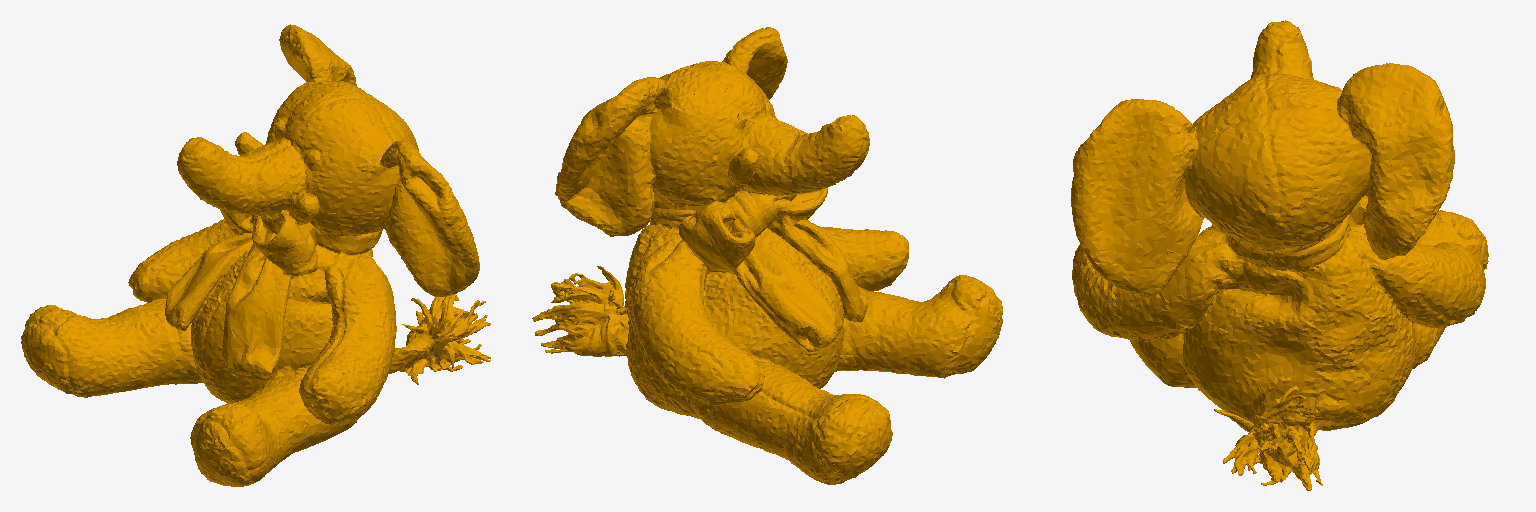
URDF robot description (dsbyipk4):
<?xml version='1.0'?>

<robot name="dsbyipk4">
    <static>false</static>
    <link name="link">
        <inertial>
            <mass value="0.13560096340753358"/>
            <inertia ixx="0.00012009482729316273" ixy="2.633854528063238e-06" ixz="-2.5859357347645267e-05"
                     iyy="0.00011542486261248815" iyz="2.3887781031725904e-06" izz="0.00010015295825155792"/>
        </inertial>
        <collision name="collision">
            <geometry>
                <mesh filename="package://miscnet/train/dsbyipk4/collision_model_vhacd.obj"/>
            </geometry>
        </collision>
        <visual name="visual">
            <geometry>
                <mesh filename="package://miscnet/train/dsbyipk4/visual_model.obj"/>
            </geometry>
        </visual>
    </link>
</robot>

--- What the picture shows (computed from the rendered views, not written in the file) ---
3 views of the same robot in one strip: view 1: azimuth 30°, elevation 25°; view 2: azimuth 150°, elevation 25°; view 3: azimuth 270°, elevation 25° (orthographic).
Model dsbyipk4 with 1 links and 0 joints (none), rooted at link, posed all joints at 0.
Visible links, largest first — view 1: link; view 2: link; view 3: link.
Link boxes in pixels (box(x1,y1,x2,y2)): link: box(21, 24, 490, 486); link: box(532, 27, 1002, 484); link: box(1071, 20, 1488, 490).
Bounding box of the posed robot: 0.1125 × 0.0927 × 0.0871 m (x, y, z).
1 mesh visuals loaded from 1 distinct referenced files (1 OBJ).
